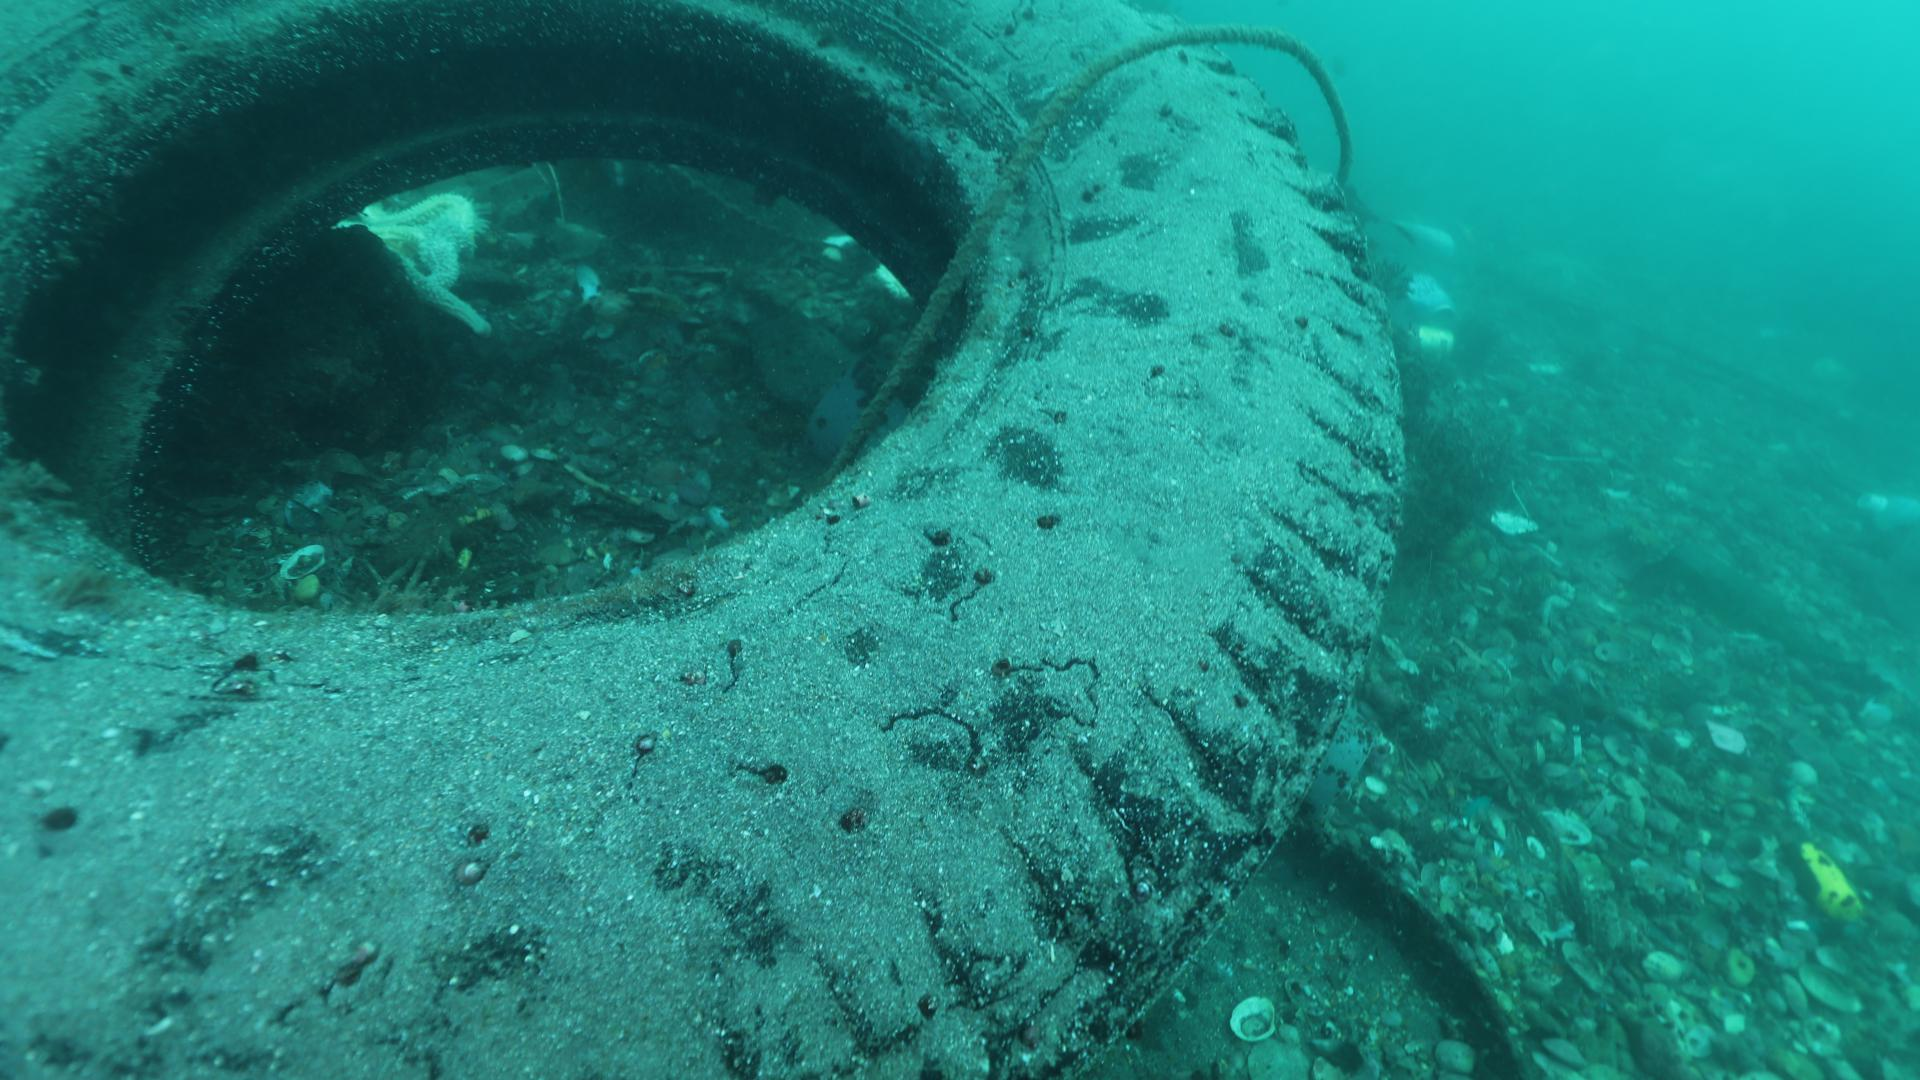rope: (814, 24, 1354, 493)
tire: (0, 0, 1404, 1080)
